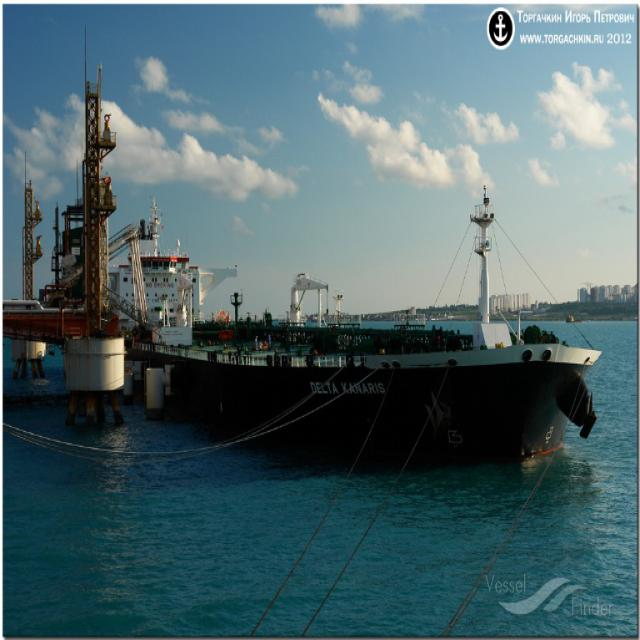Oil Tanker: (120, 192, 604, 475)
